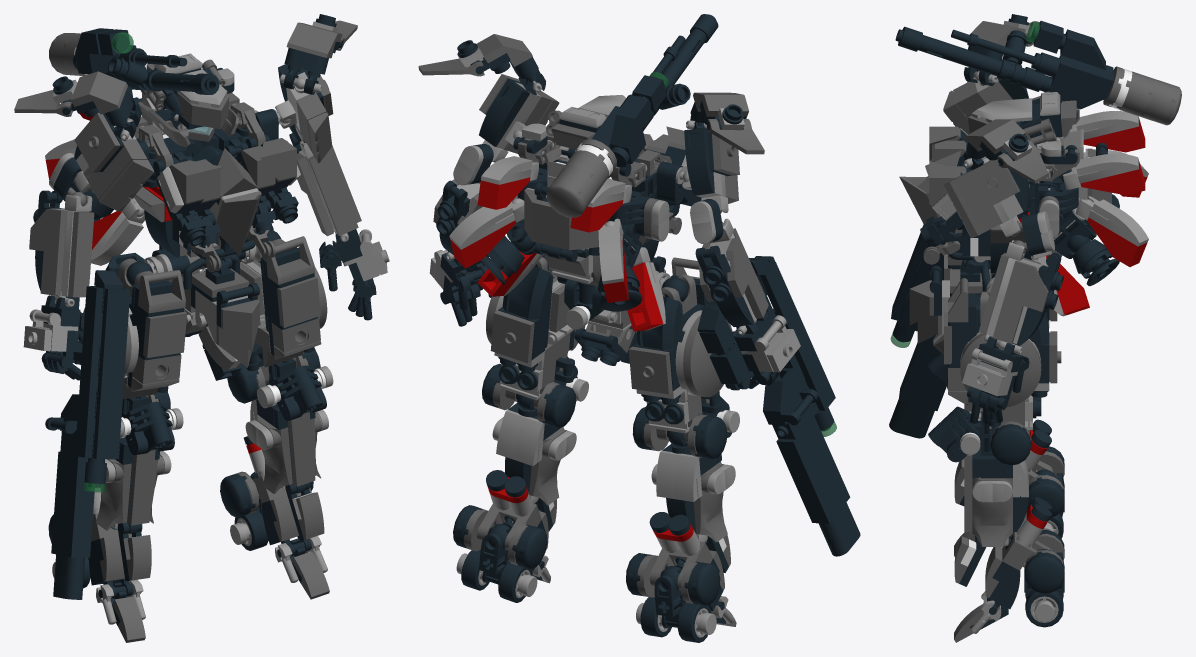
The model's file is refx-tn-99-jigabachi.dae.
3 renders of one model, left to right at view 1: azimuth 30°, elevation 25°; view 2: azimuth 150°, elevation 25°; view 3: azimuth 270°, elevation 25°, orthographic. The views are drawn at different scales.
Bounding box in the file's own units: 406 × 289 × 598.
